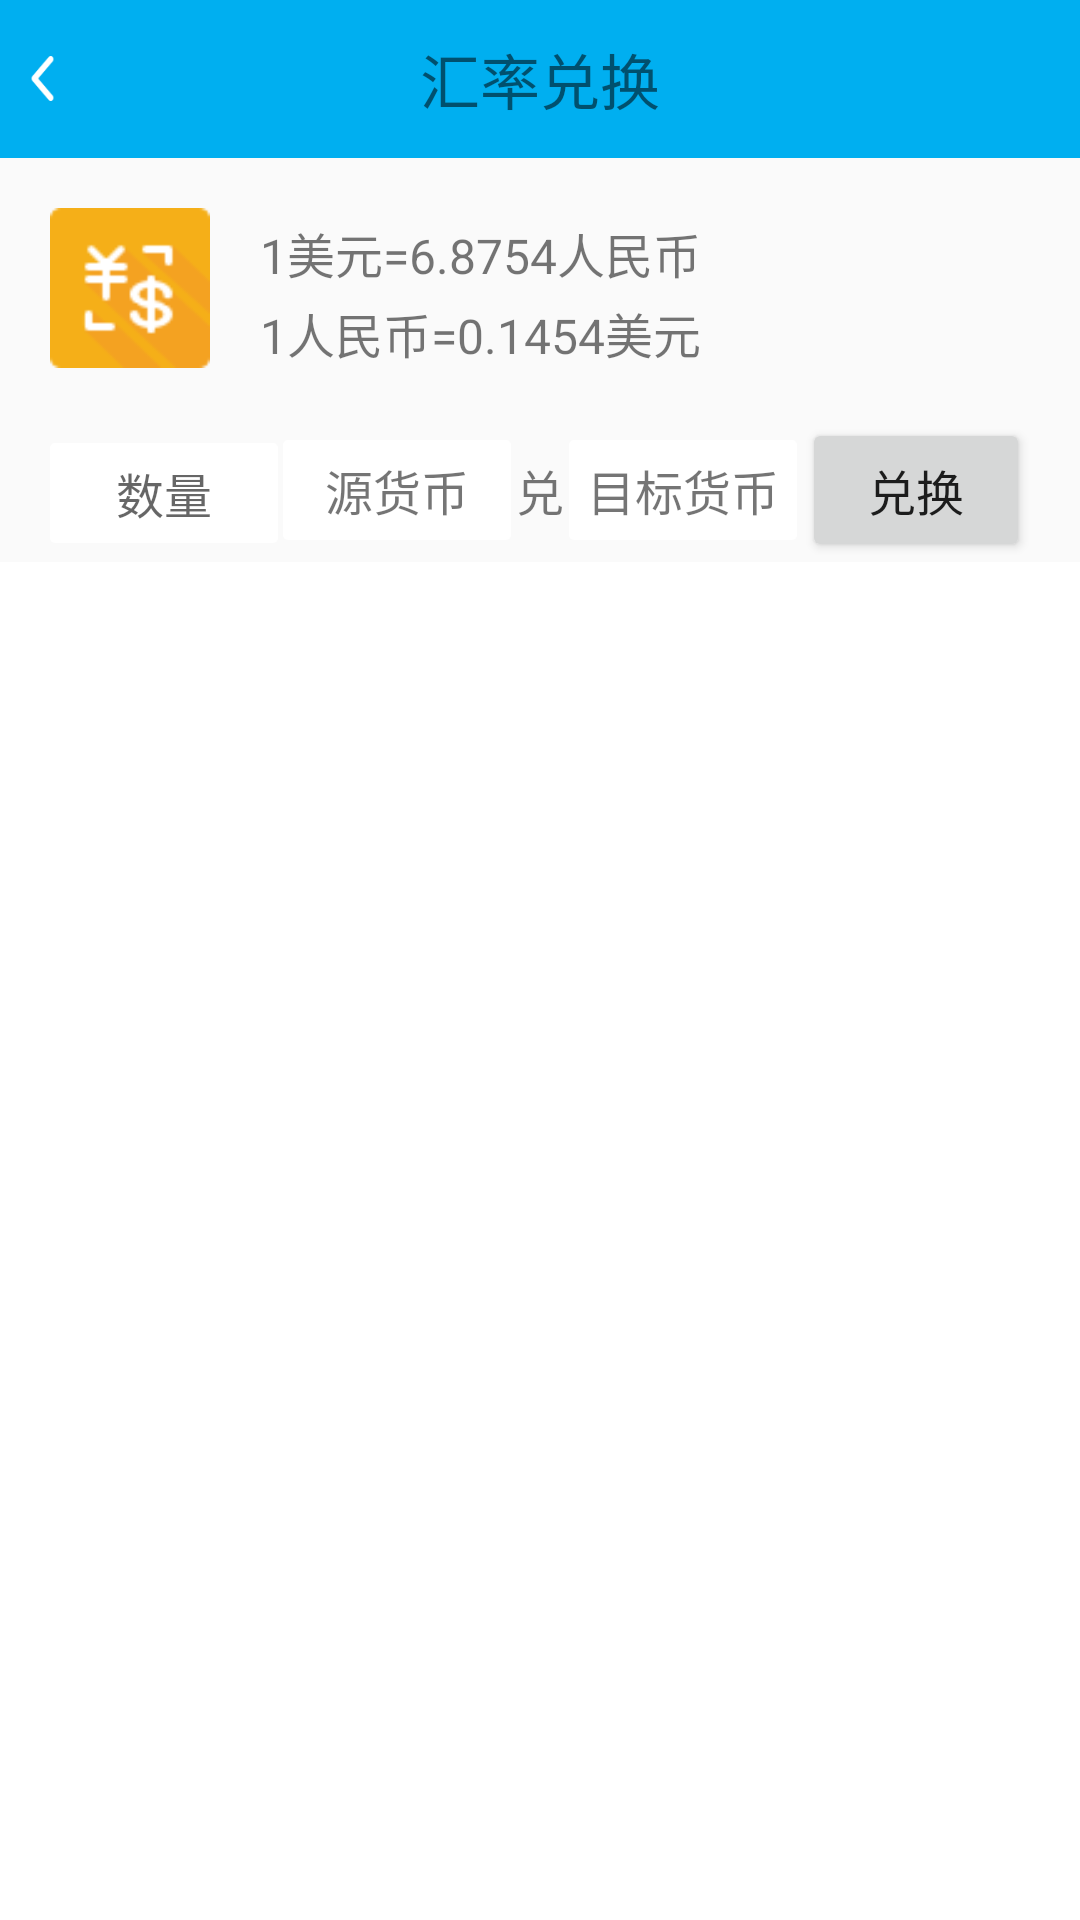

Where icons sit on this 1080x1920 app screen, as {"left": x1, "top": y1, "right": x2, "bottom": y2}:
paritiesmin: {"left": 50, "top": 208, "right": 210, "bottom": 368}
return iv: {"left": 31, "top": 56, "right": 54, "bottom": 101}
